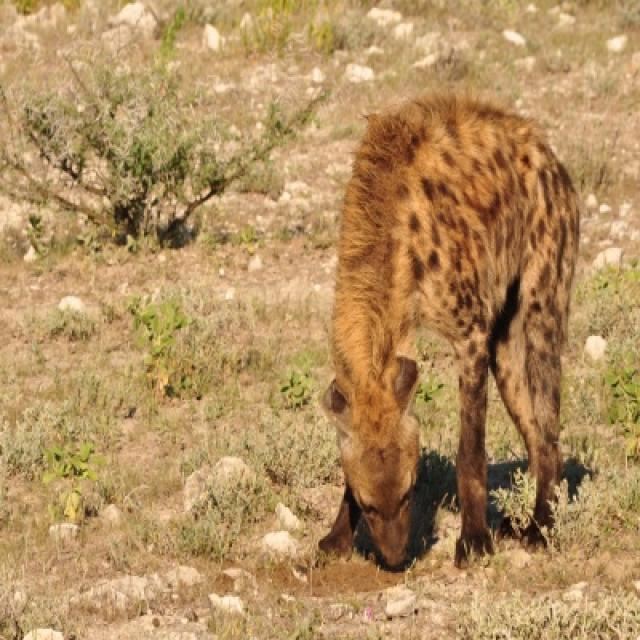hyena: (318, 93, 581, 576)
